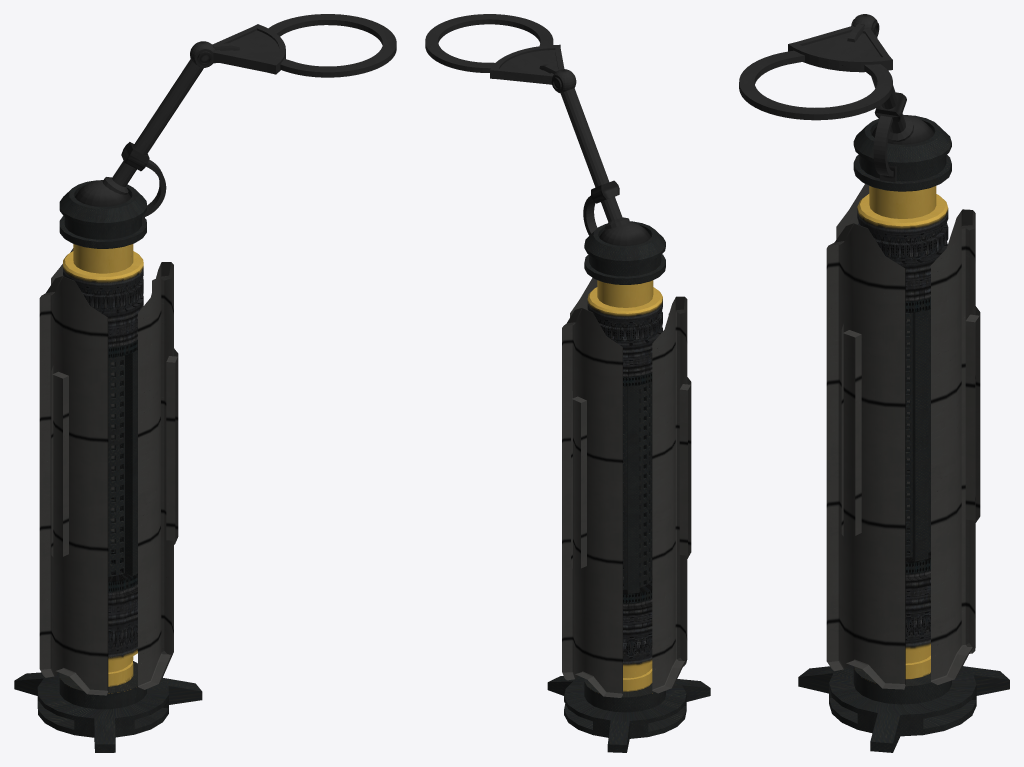
The model's file is sci_fi_light.fbx.
3 views of the same model, side by side, from view 1: azimuth 30°, elevation 25°; view 2: azimuth 150°, elevation 25°; view 3: azimuth 270°, elevation 25° (orthographic). The views are drawn at different scales.
Visible parts, largest first — view 1: light_stand, light_emitter; view 2: light_stand, light_emitter; view 3: light_stand, light_emitter.
Part boxes in pixels (x1,y1,x2,y2): light_stand: [14, 180, 202, 752]; light_emitter: [75, 14, 396, 223]; light_stand: [547, 221, 710, 752]; light_emitter: [425, 14, 651, 245]; light_stand: [798, 115, 1009, 752]; light_emitter: [739, 14, 934, 182].
Bounding box in the file's own units: 4.36 × 9.03 × 3.01.
